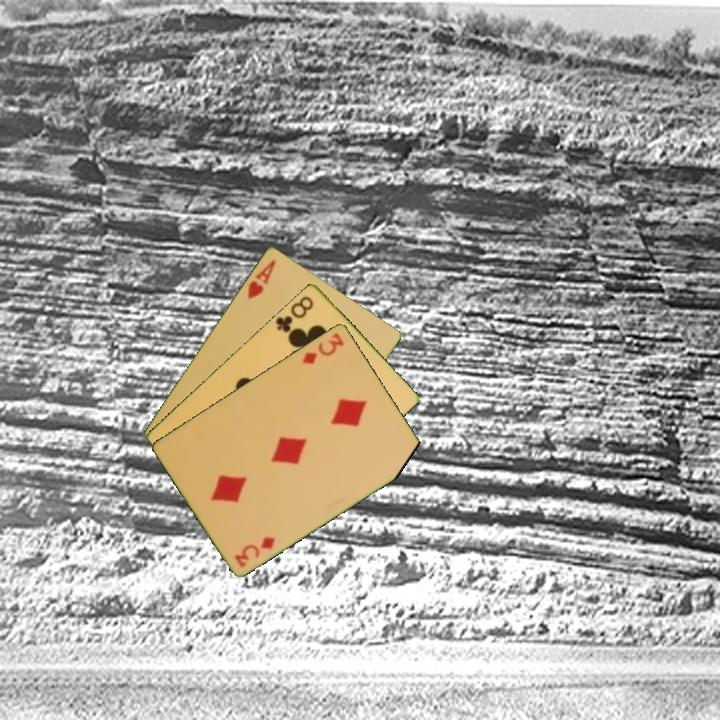3d: (299, 329, 347, 367), (231, 533, 278, 570)
8c: (272, 292, 316, 337)
Ah: (244, 256, 279, 301)
